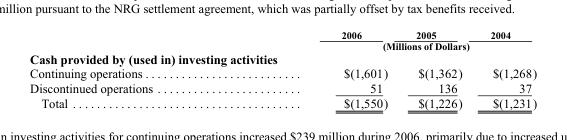table: (29, 29, 536, 109)
table column: (29, 29, 246, 109), (246, 29, 401, 109), (401, 29, 475, 109), (475, 29, 536, 109)
table column header: (29, 29, 536, 51)
table projected row header: (29, 51, 536, 65)
table row: (29, 65, 536, 80), (29, 94, 536, 109), (29, 51, 536, 65), (29, 80, 536, 94), (29, 29, 536, 40), (29, 40, 536, 51)
table spanning cell: (246, 40, 536, 51)
